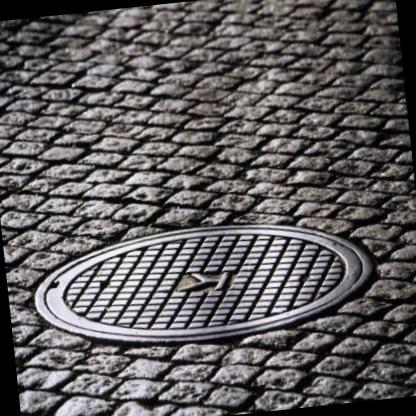manholes: (18, 193, 405, 406)
